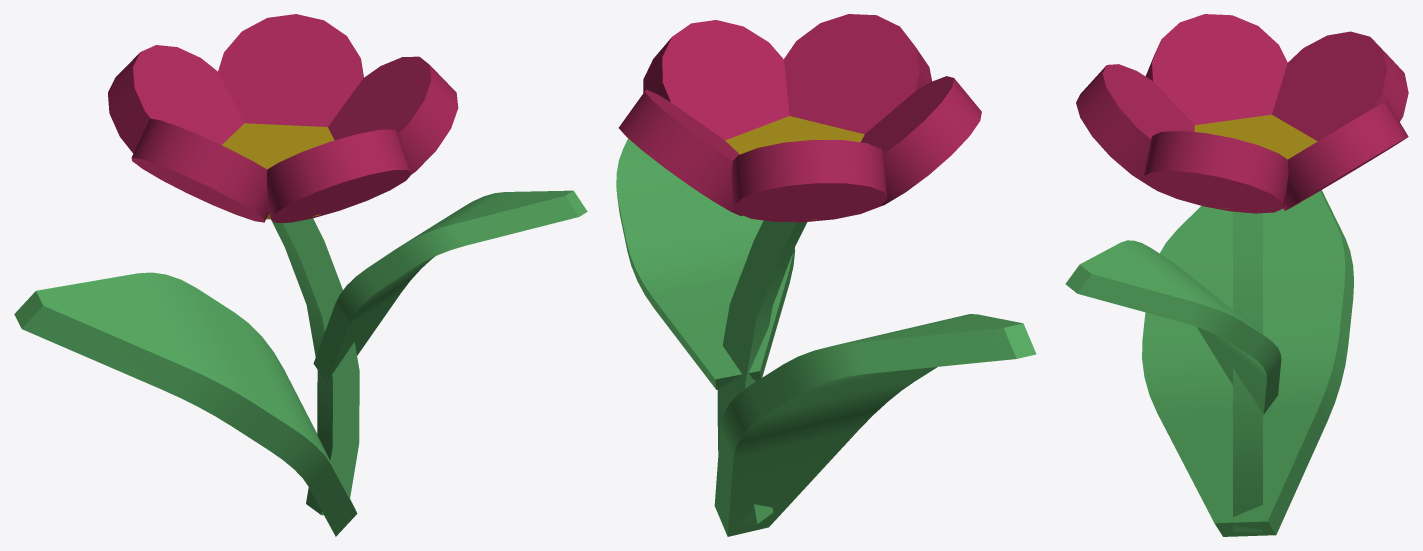
File: Flower.fbx
The picture shows the model from 3 angles, left to right: view 1: azimuth 30°, elevation 25°; view 2: azimuth 150°, elevation 25°; view 3: azimuth 270°, elevation 25°; orthographic projection. The views are drawn at different scales.
Visible parts, largest first — view 1: Flower; view 2: Flower; view 3: Flower.
Boxes of the visible parts, <box> form: Flower: <box>14,14,587,536</box>; Flower: <box>616,14,1036,536</box>; Flower: <box>1065,14,1408,536</box>.
Bounding box in the file's own units: 58.15 × 55.06 × 38.6.
